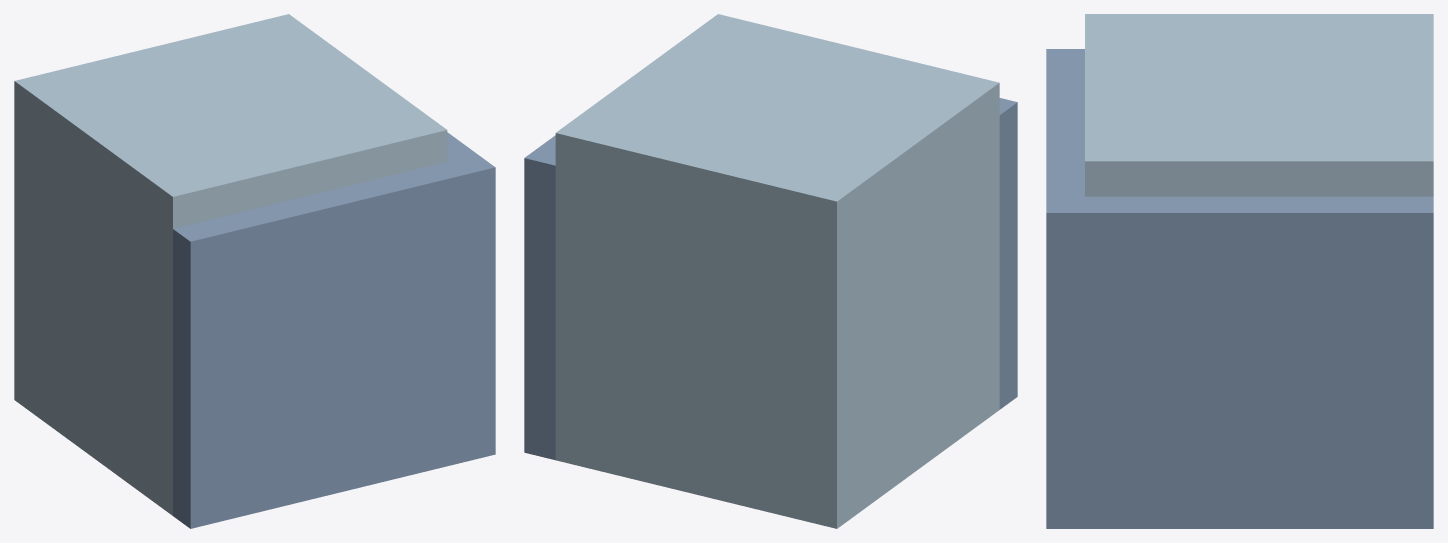
The model's file is floor.obj.
3 renders of one model, left to right at view 1: azimuth 30°, elevation 25°; view 2: azimuth 150°, elevation 25°; view 3: azimuth 270°, elevation 25°, orthographic. The views are drawn at different scales.
Bounding box in the file's own units: 10 × 10 × 10.
Materials: 1 (1 with a texture image).
